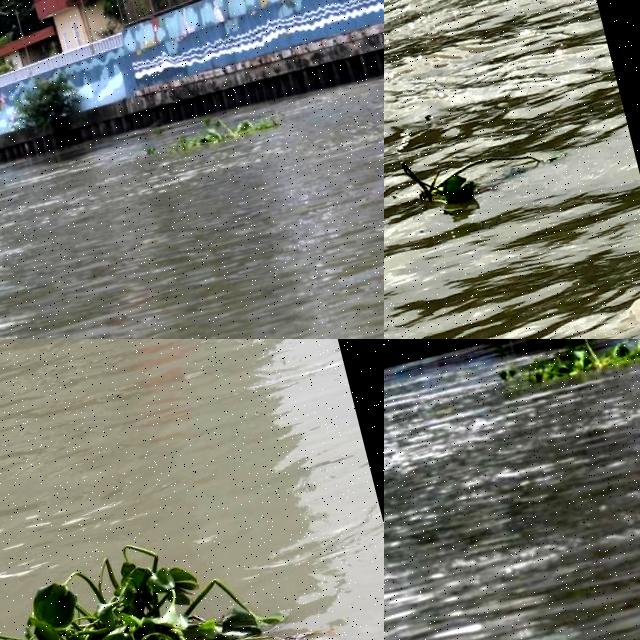water-hyacinth: (1, 516, 299, 640), (385, 118, 552, 232), (162, 100, 290, 162), (494, 340, 640, 394)
